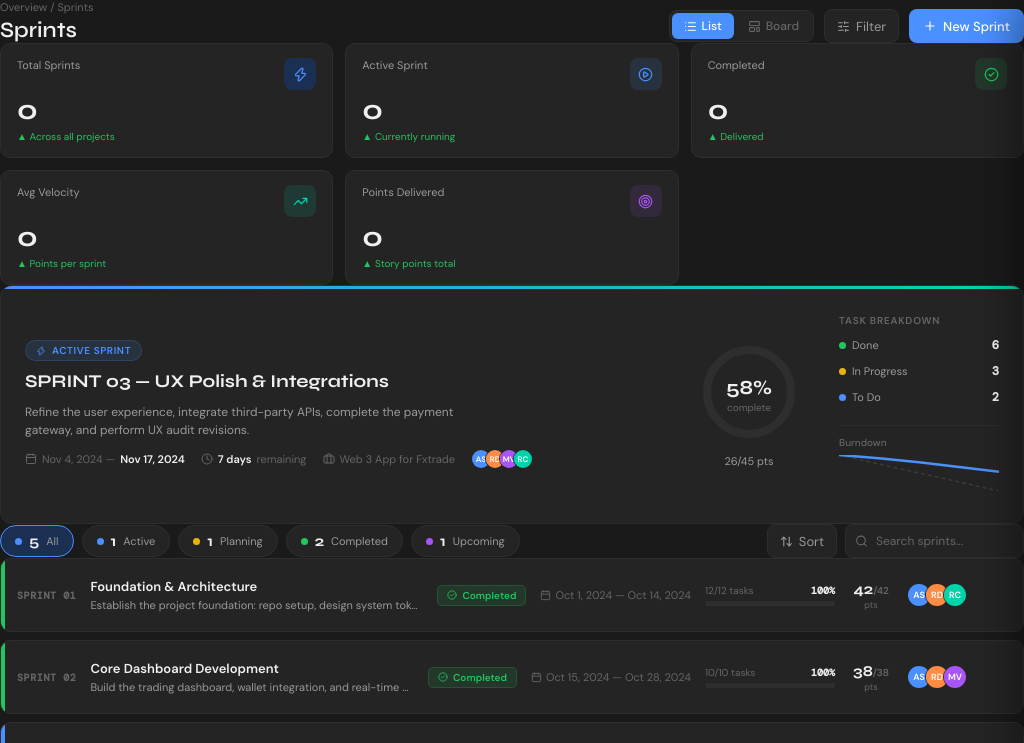
Scenario: SprintsPage › chip filter and search compose (AND), both scoped to the visible list only
The width and height of the screenshot is (1024, 743).
Click the button "2 Completed" at (344, 541), box [286,525,403,557]
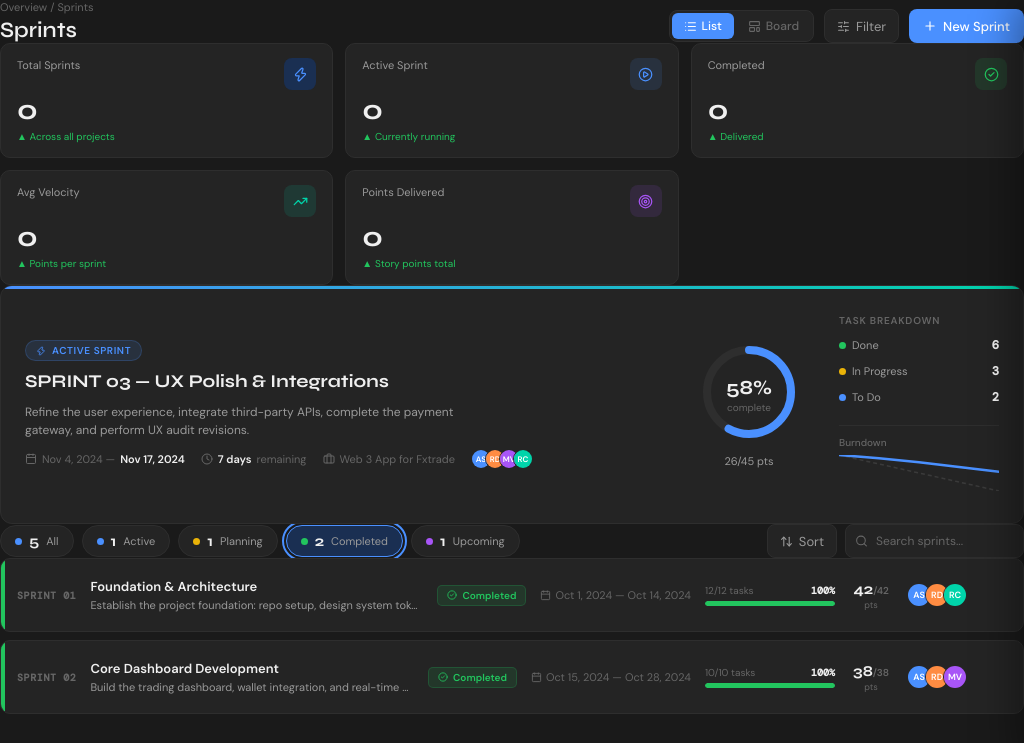
Check: the text "Foundation & Architecture" is shown, box [90,578,257,595]
Type "dashboard" into the search field with placeholder "Search sprints..." at (934, 541), box [845,524,1023,558]
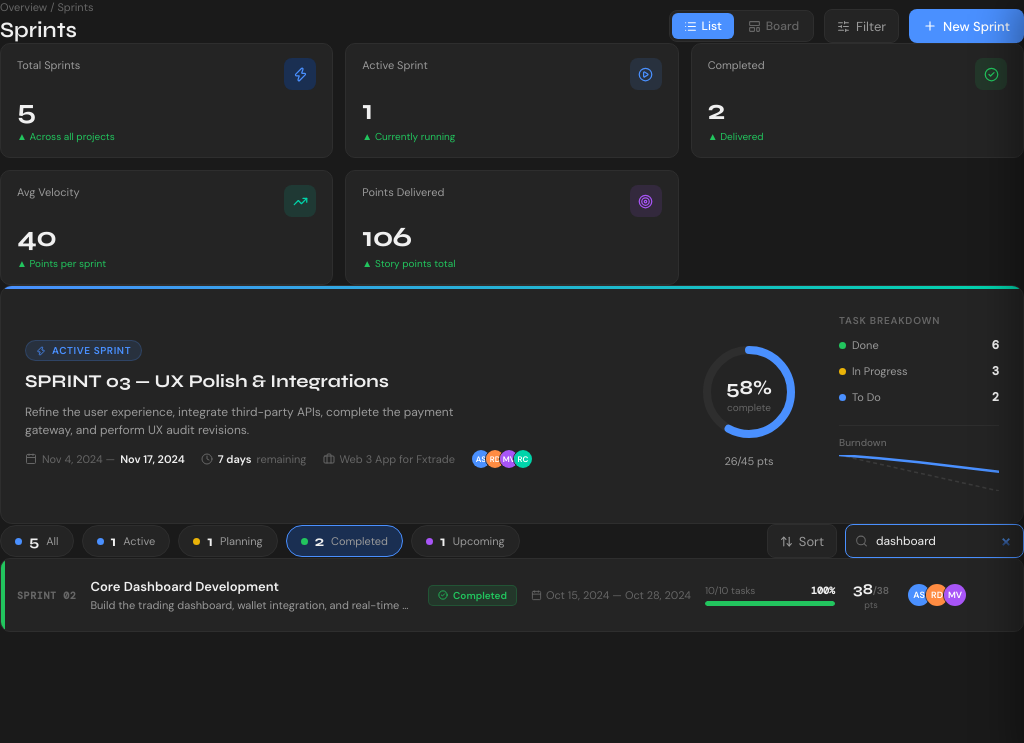
Check: the text "Core Dashboard Development" is shown, box [90,578,279,595]
Check: the button "Foundation & Architecture" is gone
